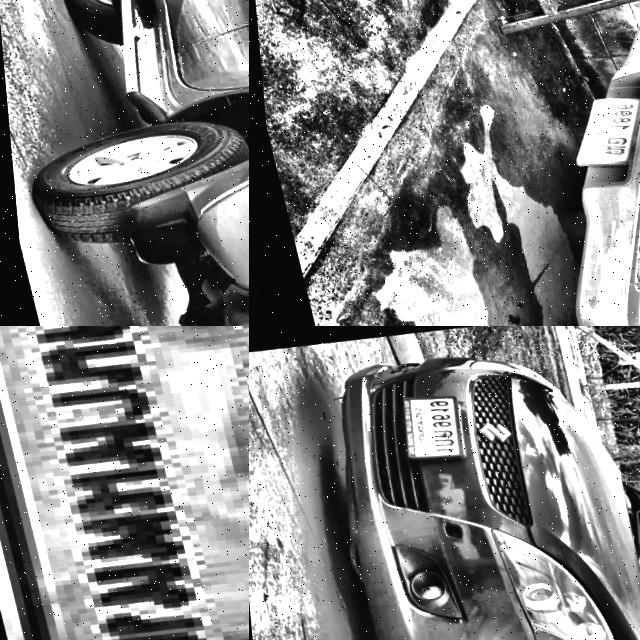license-plate: (0, 326, 249, 640), (552, 82, 640, 171), (390, 385, 467, 464)
